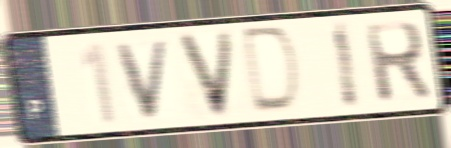1: (80, 39, 117, 127)
D: (242, 23, 304, 117)
I: (331, 18, 363, 112)
R: (361, 18, 434, 106)
V: (173, 27, 237, 122), (113, 35, 173, 123)
